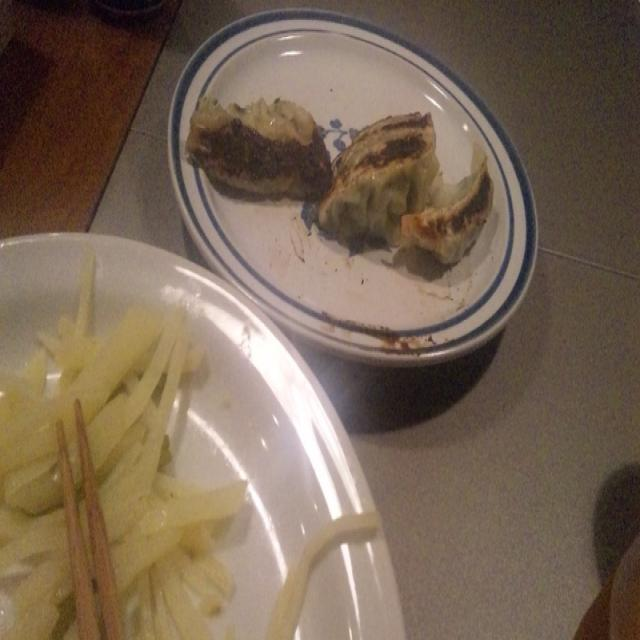带馅早点: (222, 38, 520, 336)
